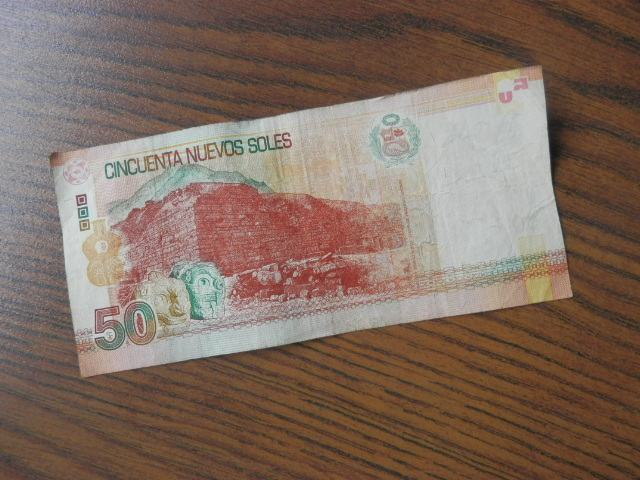B50: (51, 82, 580, 365)
